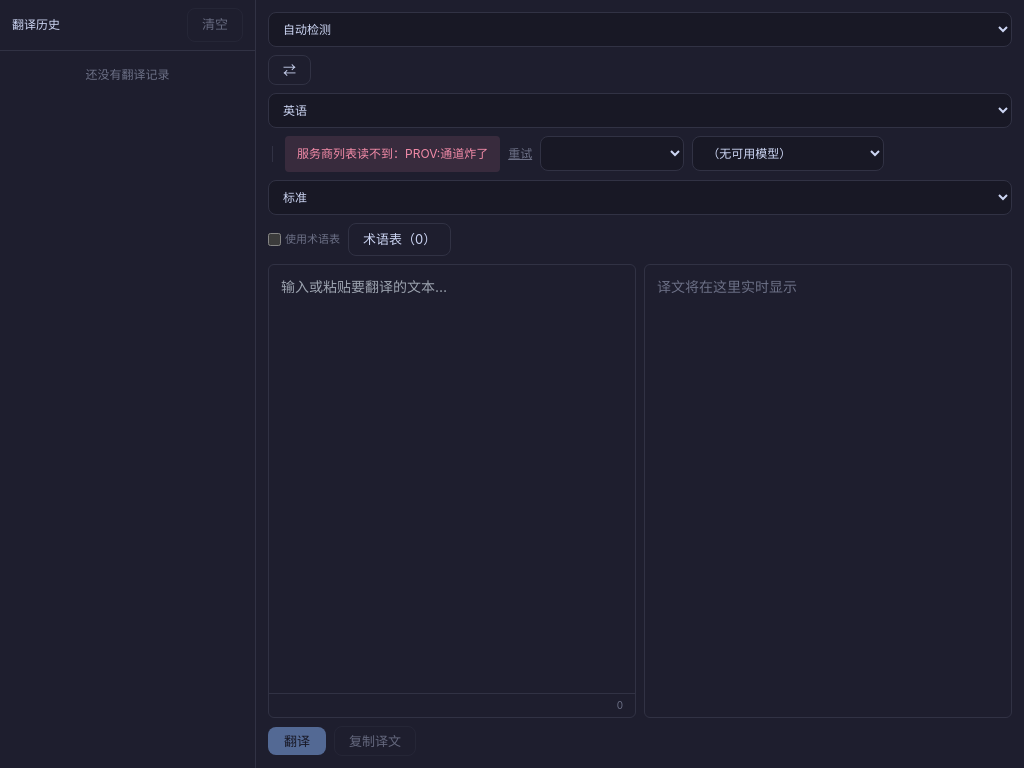
Test: 翻译页：服务商读不到 ⇒ 下拉那句「没有可用的服务商」让位，键按下去真再发一发 › 失败脸有键 ⇒ 按下去真多发一发 ⇒ 到货后那句撤、下拉里回到那家服务商
Step 1. Click the button with test id "translate-providers-read-retry" → point(520, 154), box [508, 146, 532, 162]
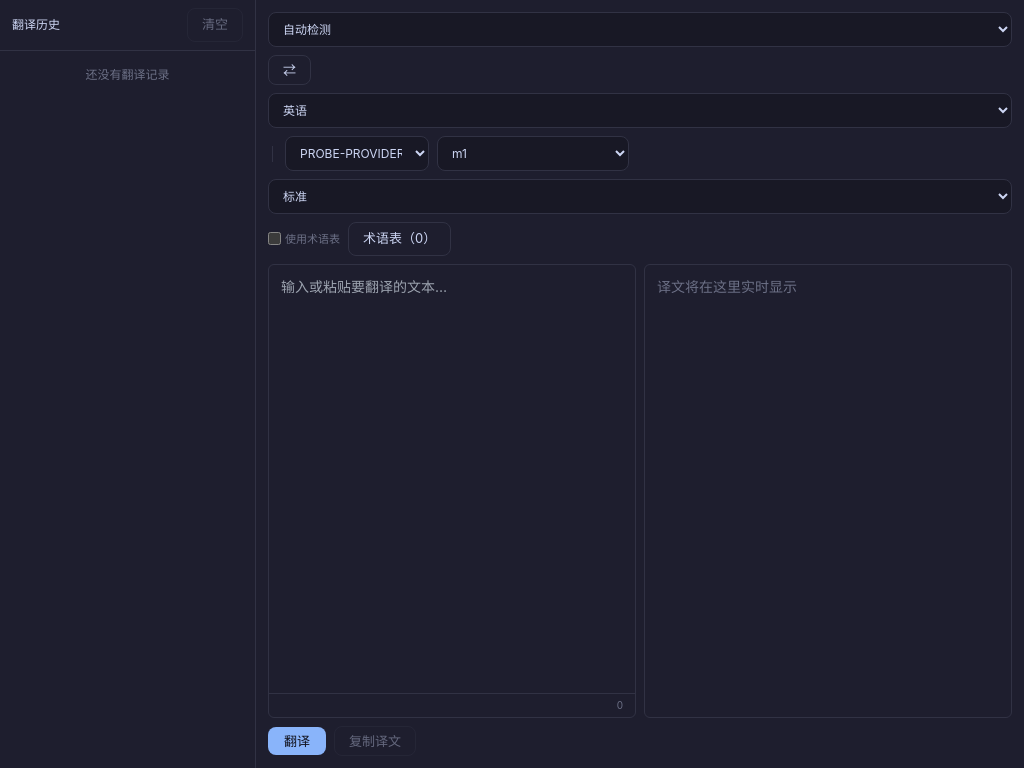
Expected: the button with test id "translate-providers-read-retry" is gone
